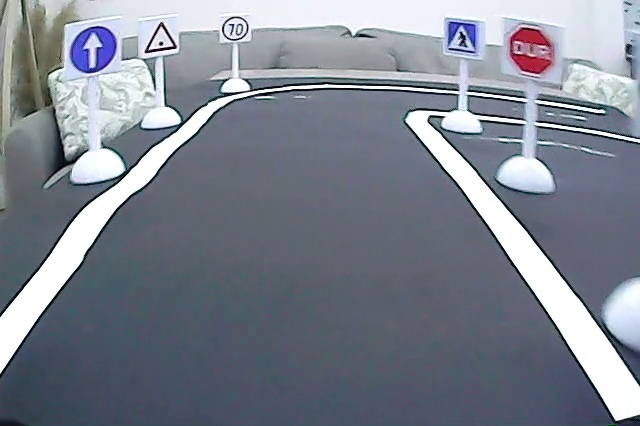green light: (142, 19, 179, 55)
pedestrian crossing: (445, 19, 480, 57)
speed limit 70: (219, 14, 251, 42)
stop sign: (504, 22, 557, 78)
